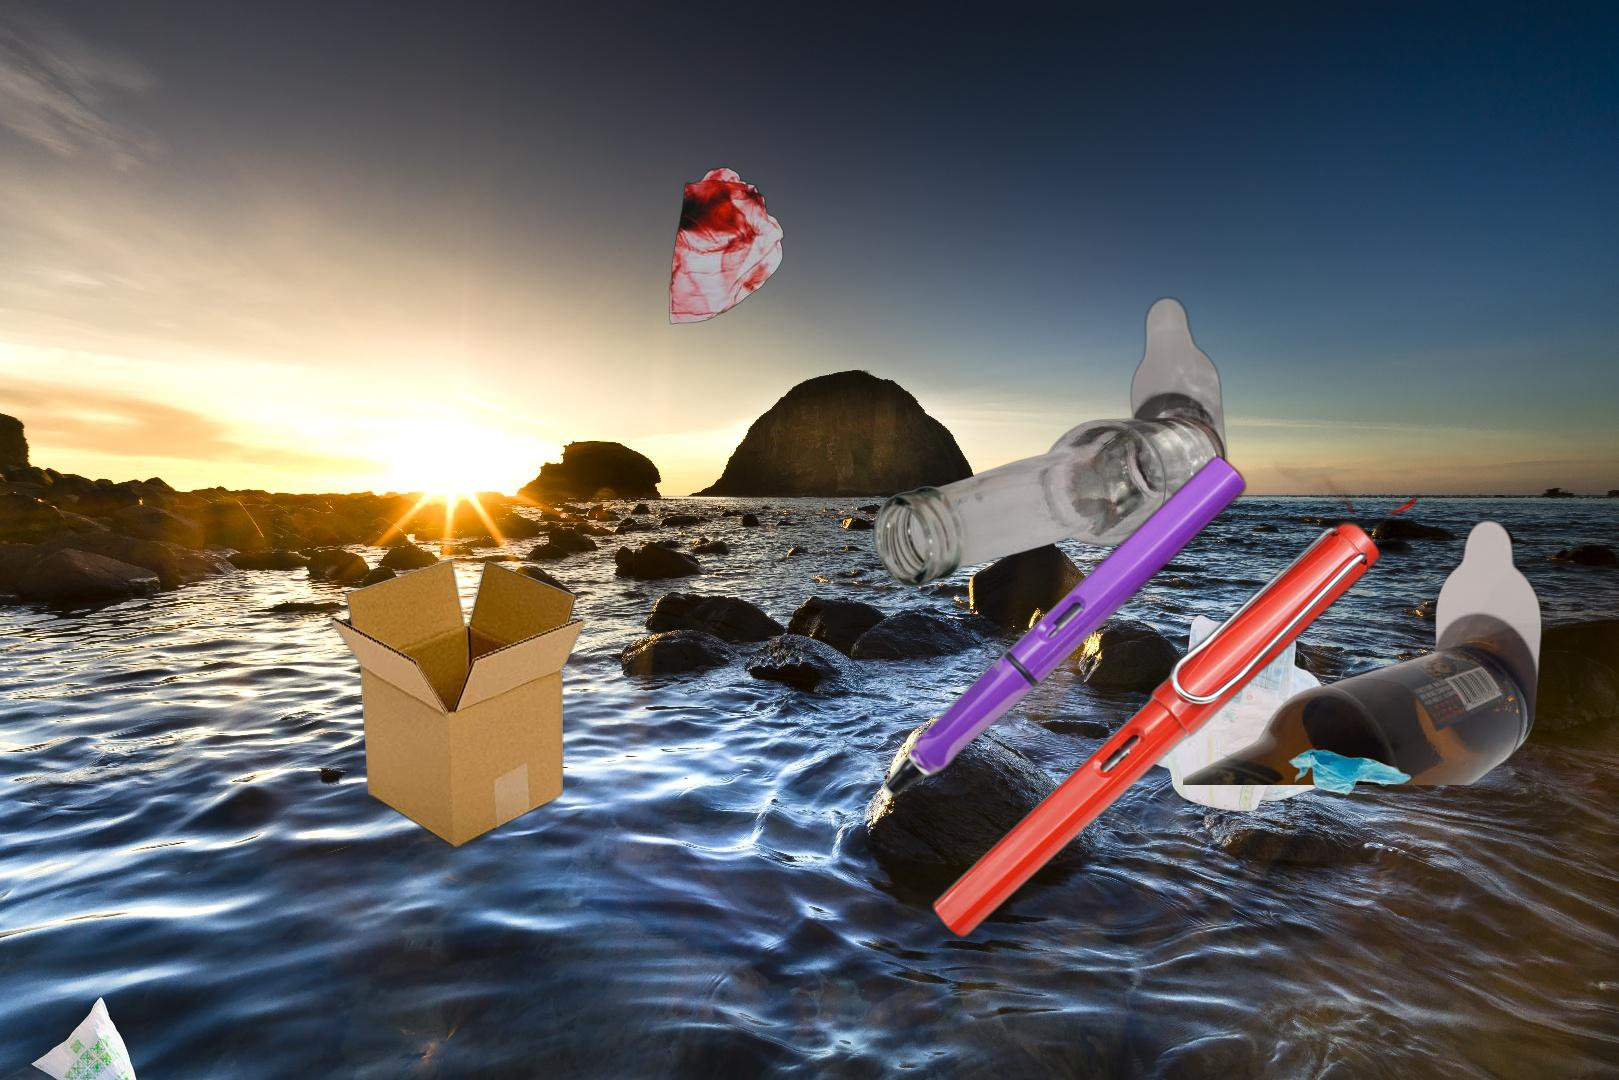glass: (870, 294, 1231, 588), (1183, 516, 1545, 785)
penholder: (861, 450, 1424, 945)
plastic-bag: (668, 164, 787, 327), (29, 994, 189, 1080), (1287, 746, 1413, 799)
trash: (1145, 612, 1336, 814)
trashbox-cardboard: (327, 558, 587, 850)
